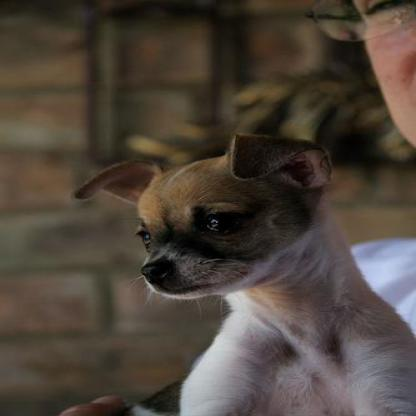dog: (61, 132, 415, 415)
